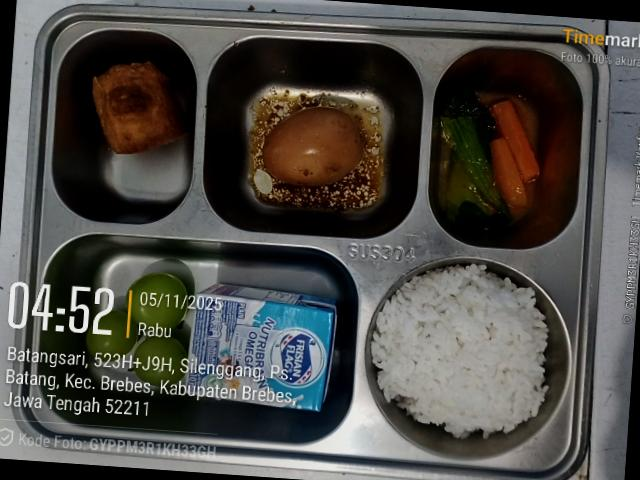buah: (86, 273, 187, 385)
nasi: (370, 264, 548, 438)
sayur: (436, 87, 539, 229)
susu: (186, 283, 336, 410)
tahu: (91, 61, 186, 153)
telur: (262, 107, 363, 186)
